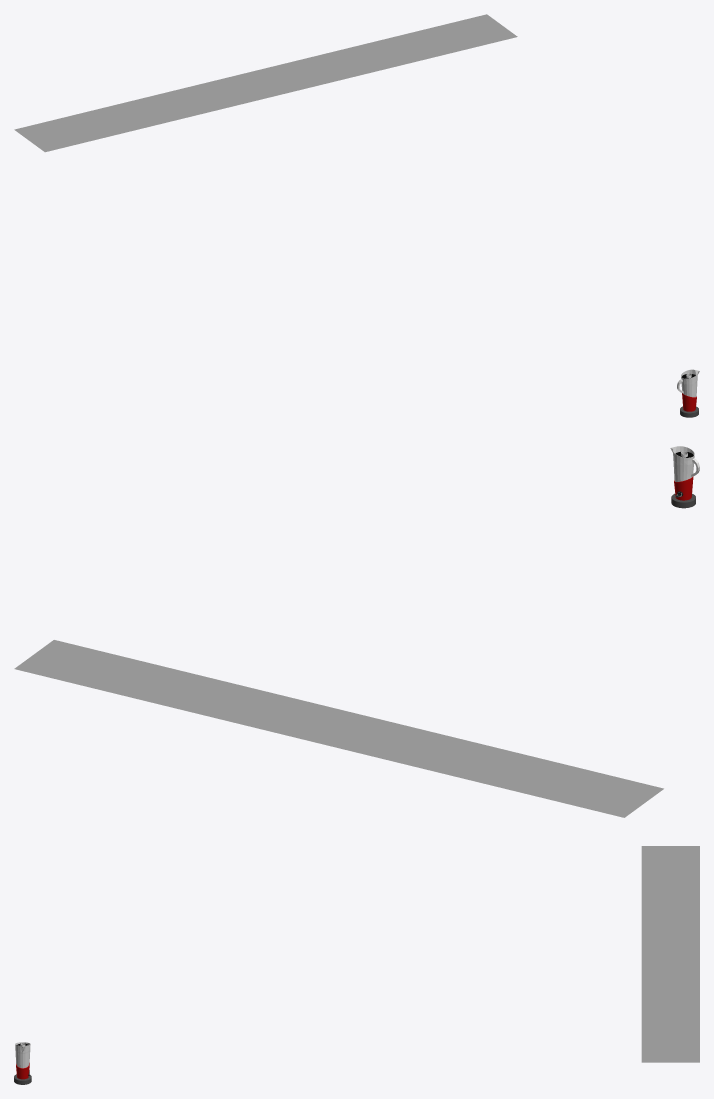
Rendered from machine.fbx.
The picture shows the model from 3 angles, top to bottom: view 1: azimuth 30°, elevation 25°; view 2: azimuth 150°, elevation 25°; view 3: azimuth 270°, elevation 25°; orthographic projection. The views are drawn at different scales.
Visible parts, largest first — view 1: Plane007, Group005; view 2: Plane007, Group005; view 3: Plane007, Group005.
Part boxes in pixels (x1,y1,x2,y2): Plane007: [14, 14, 517, 152]; Group005: [677, 369, 699, 411]; Plane007: [14, 640, 663, 817]; Group005: [670, 446, 699, 500]; Plane007: [641, 846, 699, 1062]; Group005: [15, 1042, 30, 1079].
Bounding box in the file's own units: 4497 × 881 × 6018.
7 materials, 1 textured.
